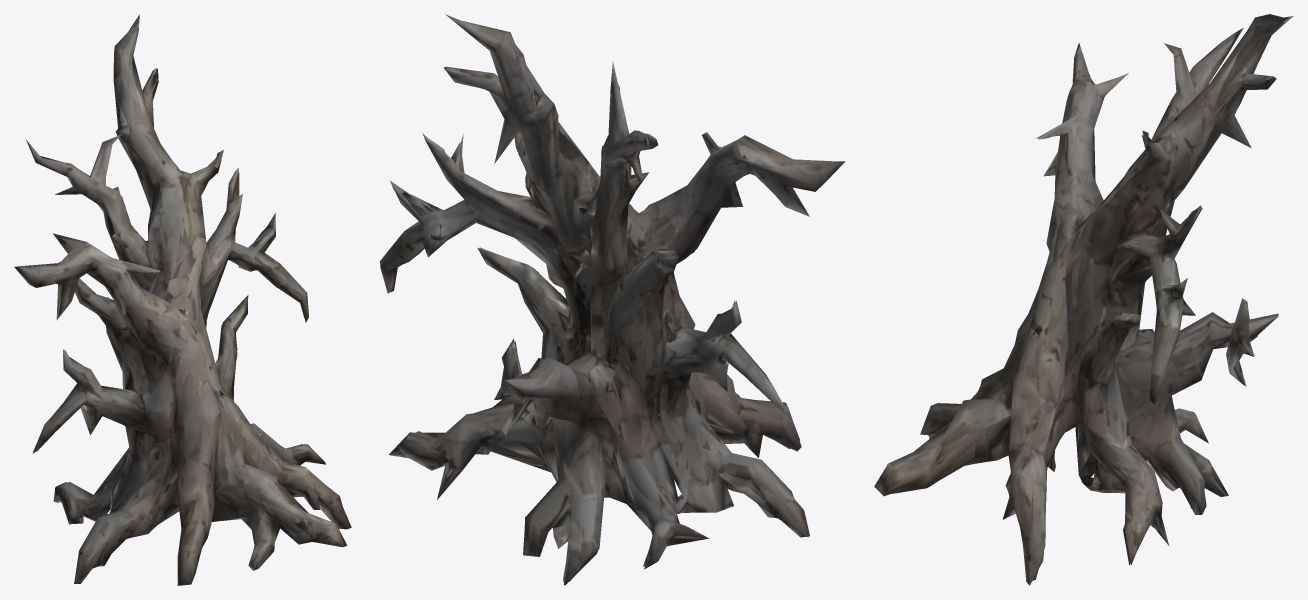
The model's file is tree_darkwood_dead.glb.
The picture shows the model from 3 angles, left to right: view 1: azimuth 30°, elevation 25°; view 2: azimuth 150°, elevation 25°; view 3: azimuth 270°, elevation 25°; orthographic projection. The views are drawn at different scales.
Visible parts, largest first — view 1: BakeLow; view 2: BakeLow; view 3: BakeLow.
Part boxes in pixels (box(x1,y1,x2,y2)): BakeLow: box(14, 14, 351, 585); BakeLow: box(380, 14, 845, 585); BakeLow: box(874, 14, 1293, 585).
Bounding box in the file's own units: 0.6492 × 0.8378 × 0.6172.
Materials: 1 (1 with a texture image).
